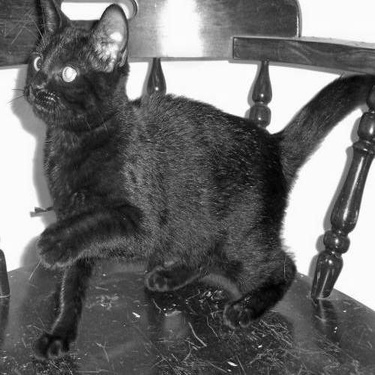cat: (27, 1, 373, 358)
